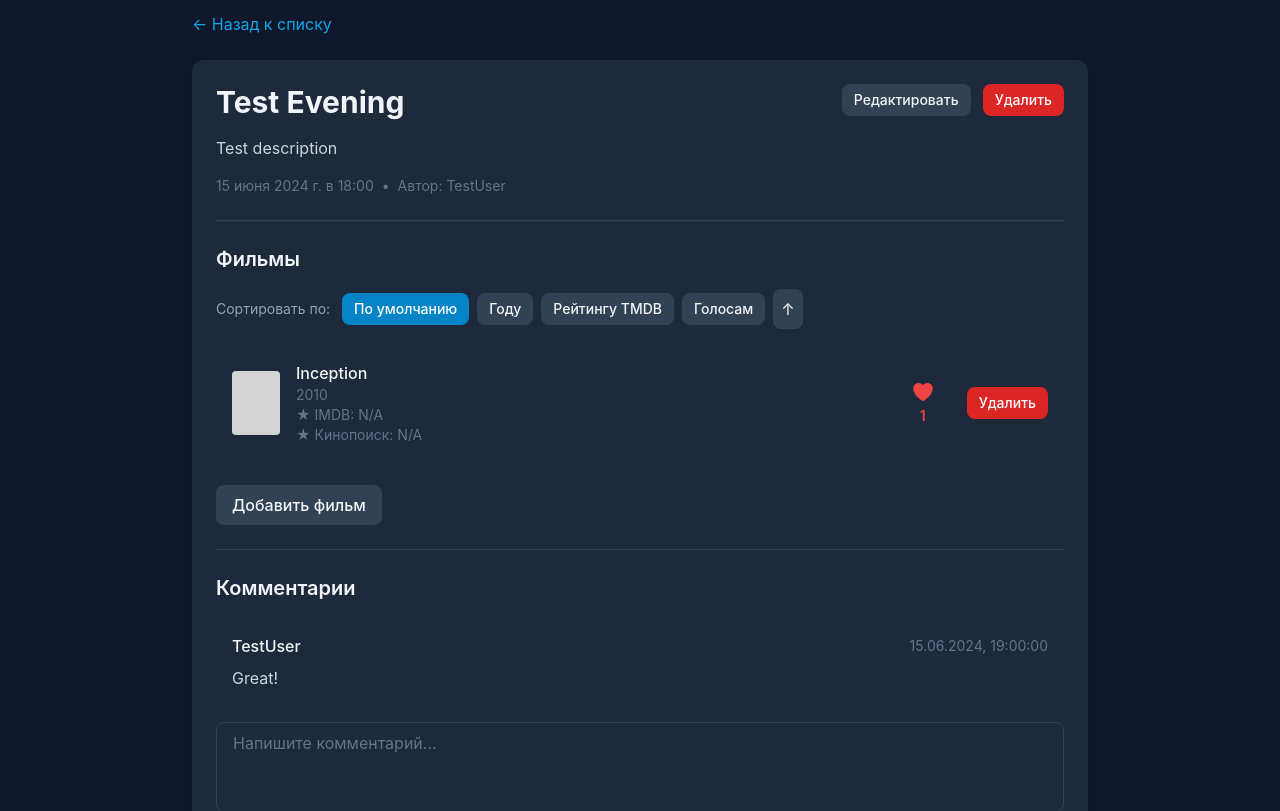
Test case: EveningDetail › Edit mode › clicking edit switches to edit mode with pre-filled values
The image size is (1280, 811).
Expected: the heading "Test Evening" is shown, [216, 84, 404, 120]
Click the button "Редактировать" at (906, 100), box [842, 84, 971, 116]
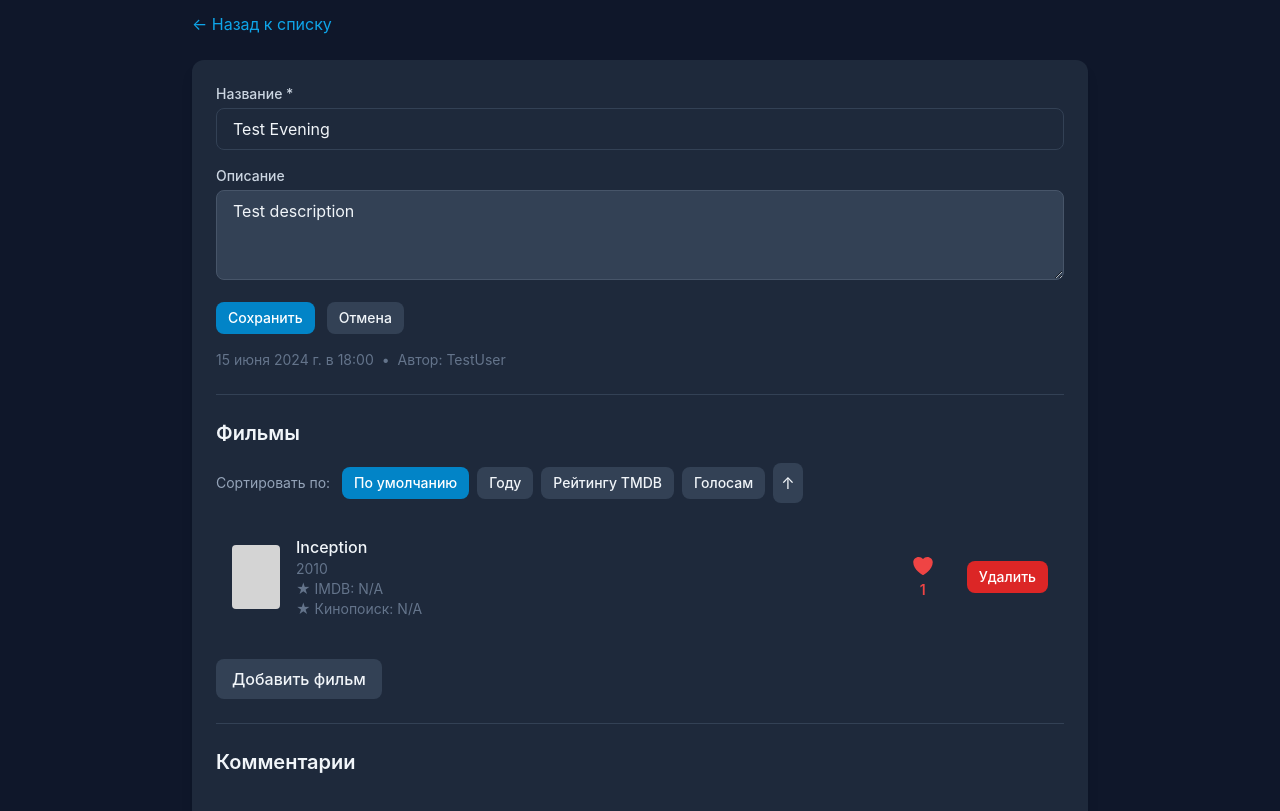
Result: the field showing "Test Evening" is shown at [216, 108, 1064, 150]
Result: the text box showing "Test description" is shown at [216, 190, 1064, 280]
Result: the button "Сохранить" is shown at [216, 302, 315, 334]
